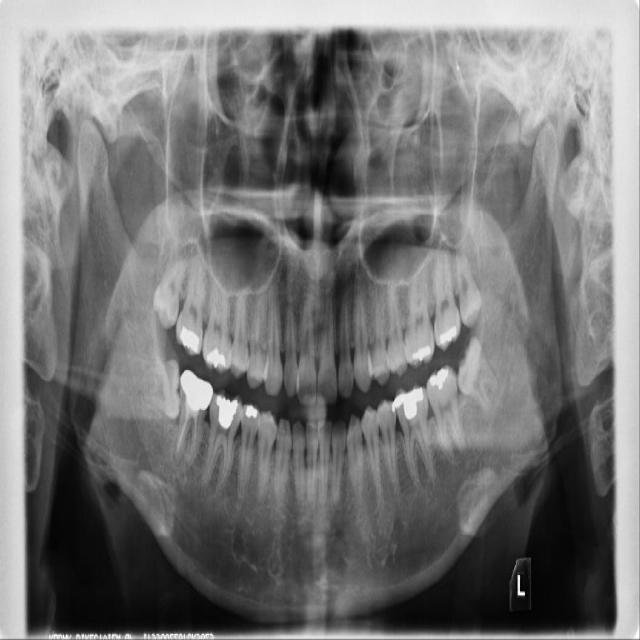Crown: (180, 369, 212, 410)
Filling: (391, 387, 423, 420), (216, 395, 238, 429), (177, 326, 202, 352), (429, 368, 448, 390), (438, 325, 457, 345), (206, 348, 225, 368), (413, 346, 431, 361), (245, 405, 258, 419)
Root Canal Treatment: (177, 422, 187, 462), (181, 442, 195, 467), (195, 422, 196, 442)
impacted tooth: (477, 335, 523, 412), (152, 252, 186, 325), (134, 362, 178, 416), (455, 243, 483, 326)
